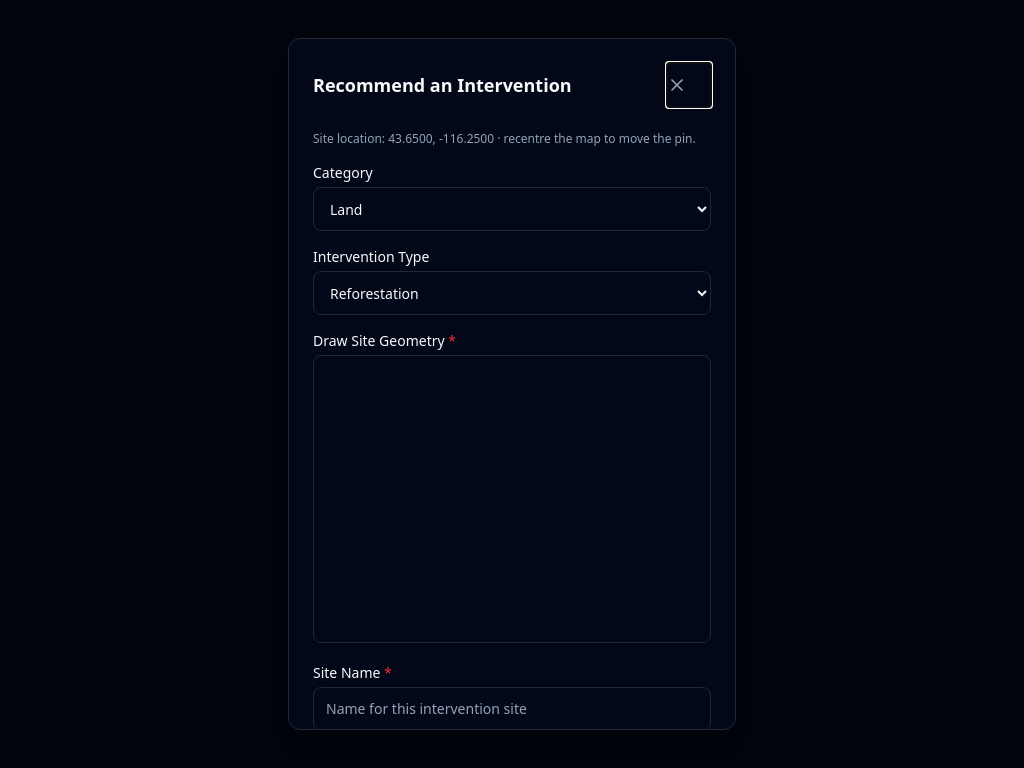
Scenario: InterventionSubmitModal › enables submit once a valid geometry is drawn
In the field labelled "Site Name *": (512, 709) left=313, top=687, right=711, bottom=731, type "Ridge silvopasture plot"
(page scrolled)
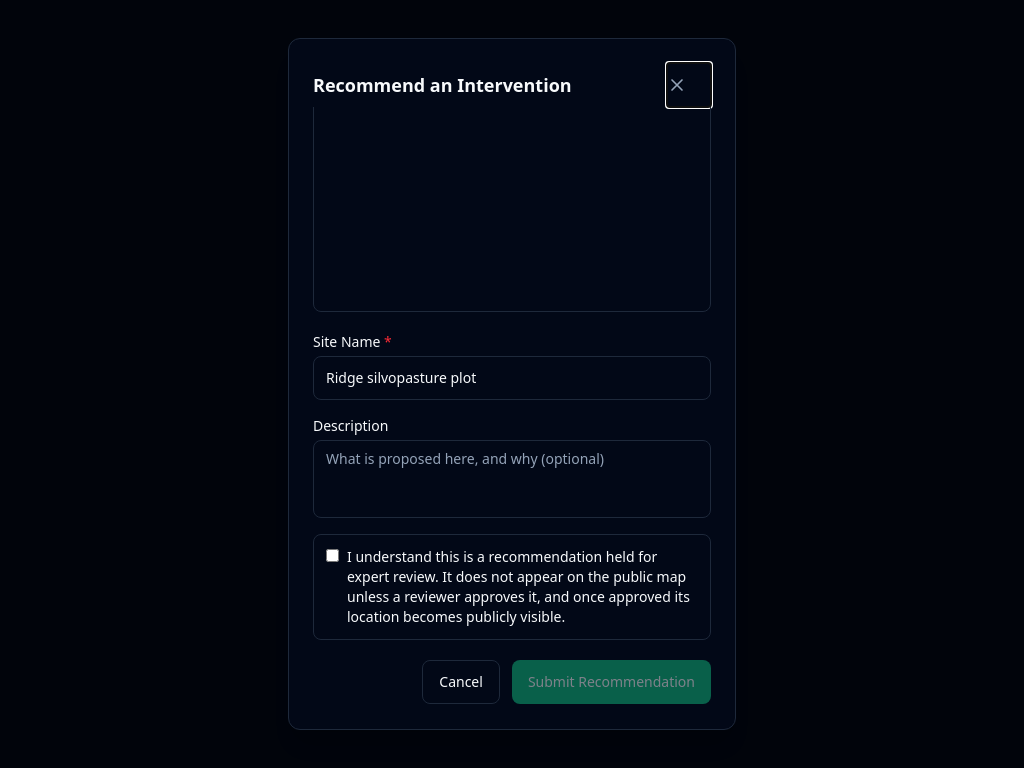
Click the checkbox labelled "I understand this is a recommendation": (332, 556) left=326, top=549, right=339, bottom=562
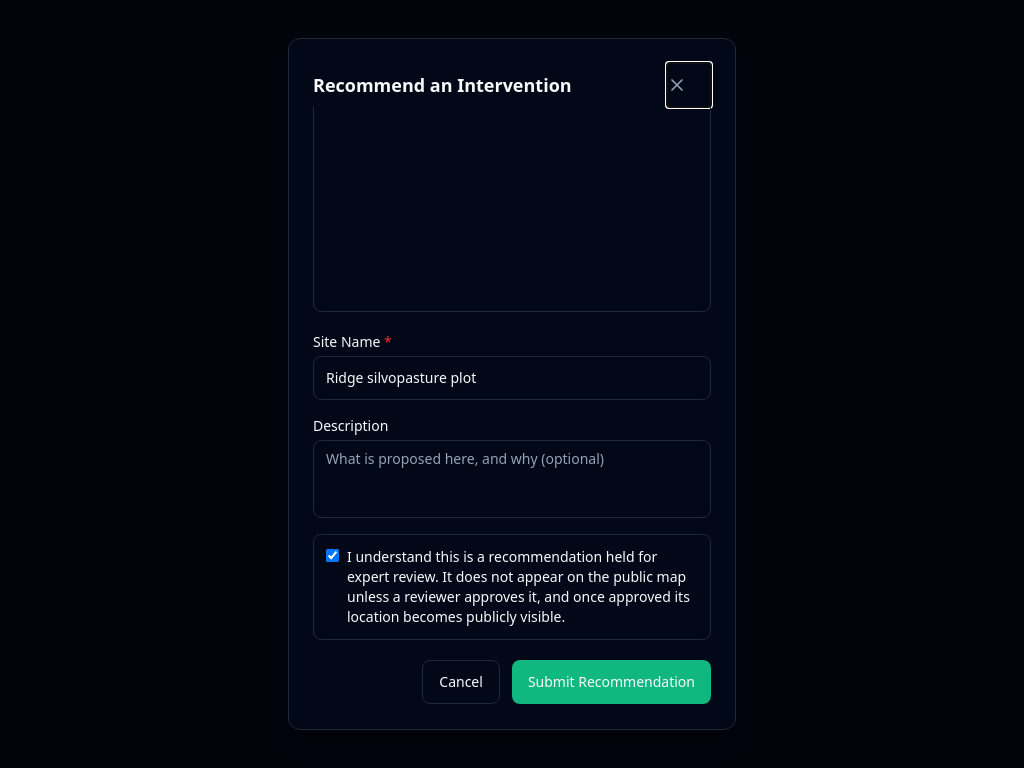
Result: the button "Submit Recommendation" is enabled at left=512, top=660, right=711, bottom=704
